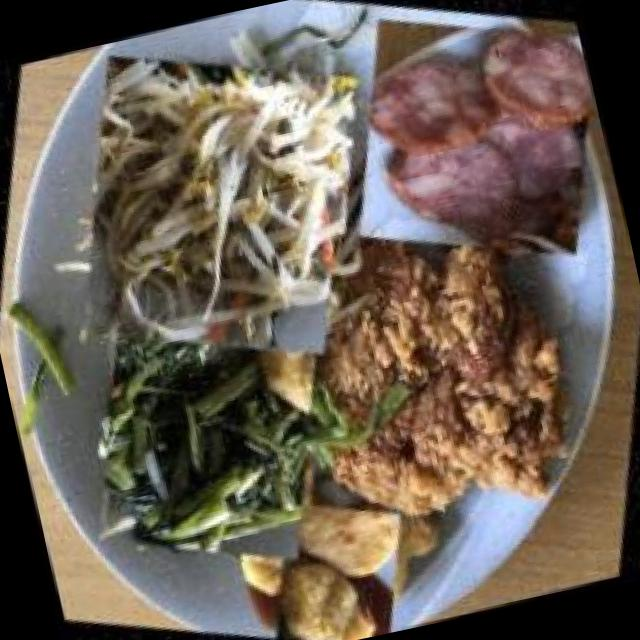chicken_nuggets: (218, 437, 455, 640)
chinese_sausage: (305, 0, 632, 307)
fried_chicken: (247, 174, 640, 586)
mung_bean_sprouts: (15, 0, 425, 417)
water_spinach: (49, 288, 367, 606)
